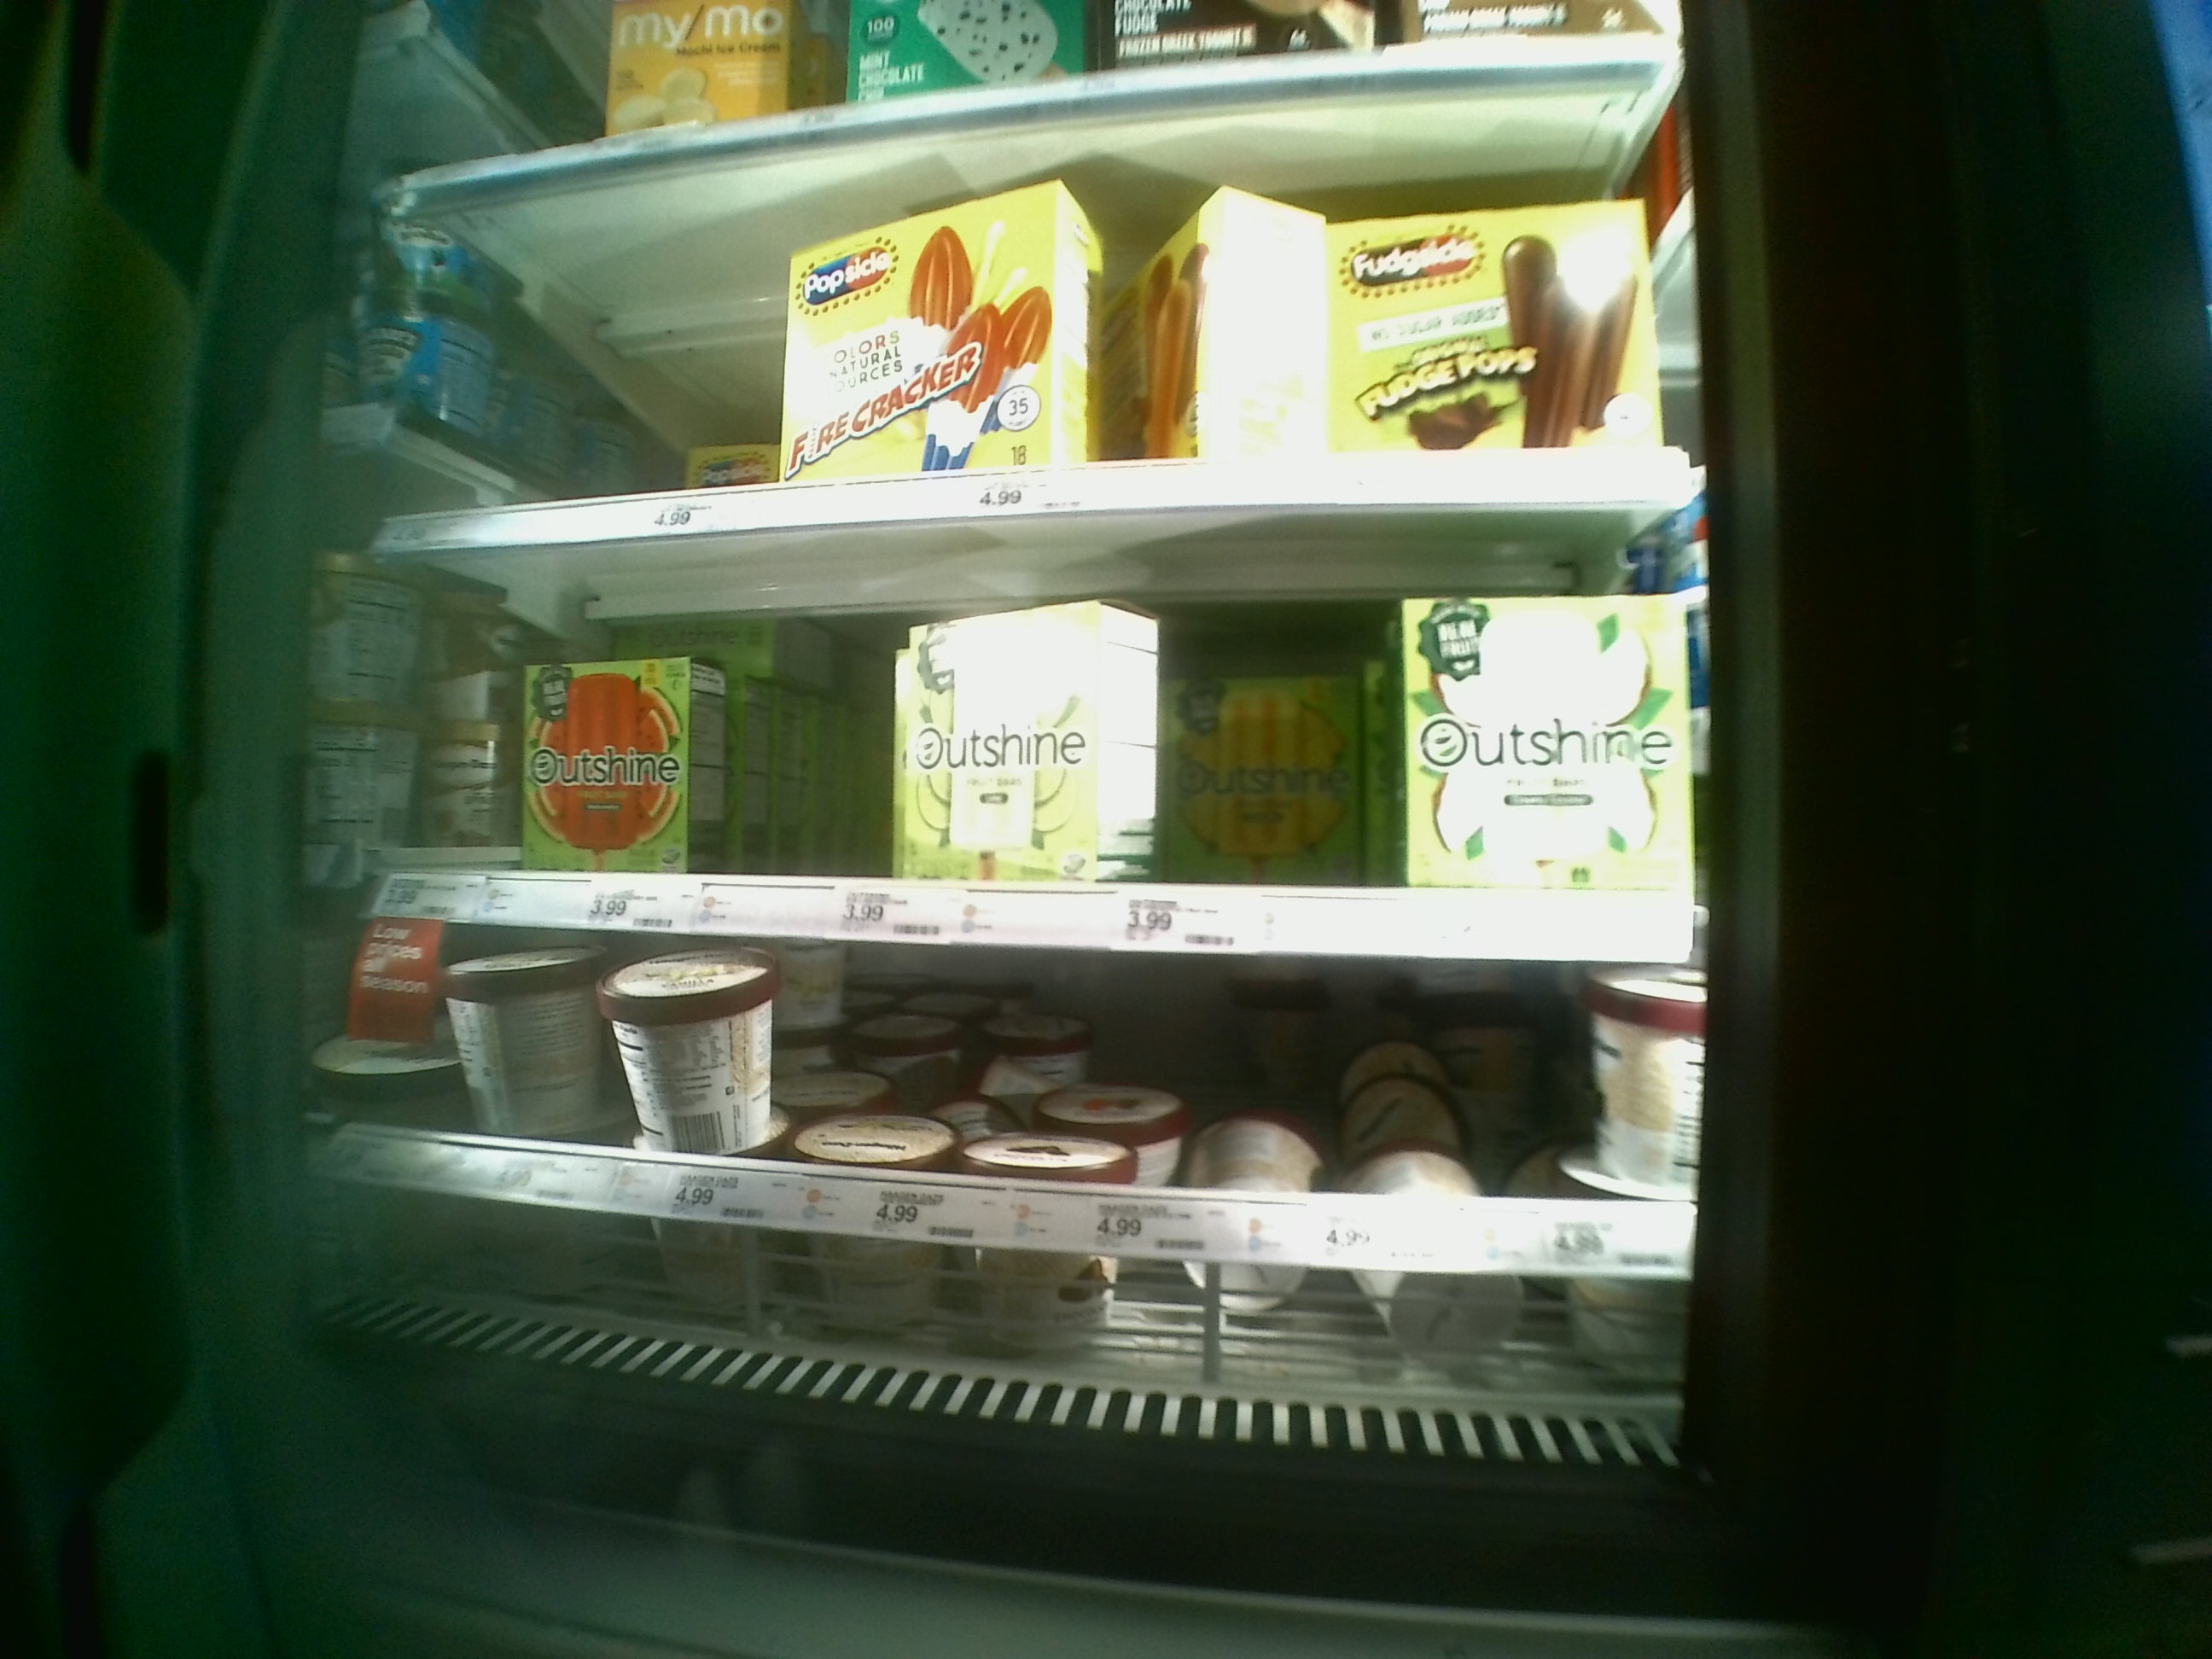shelf: (376, 922, 1695, 1417), (366, 96, 1719, 558), (361, 505, 1707, 964)
